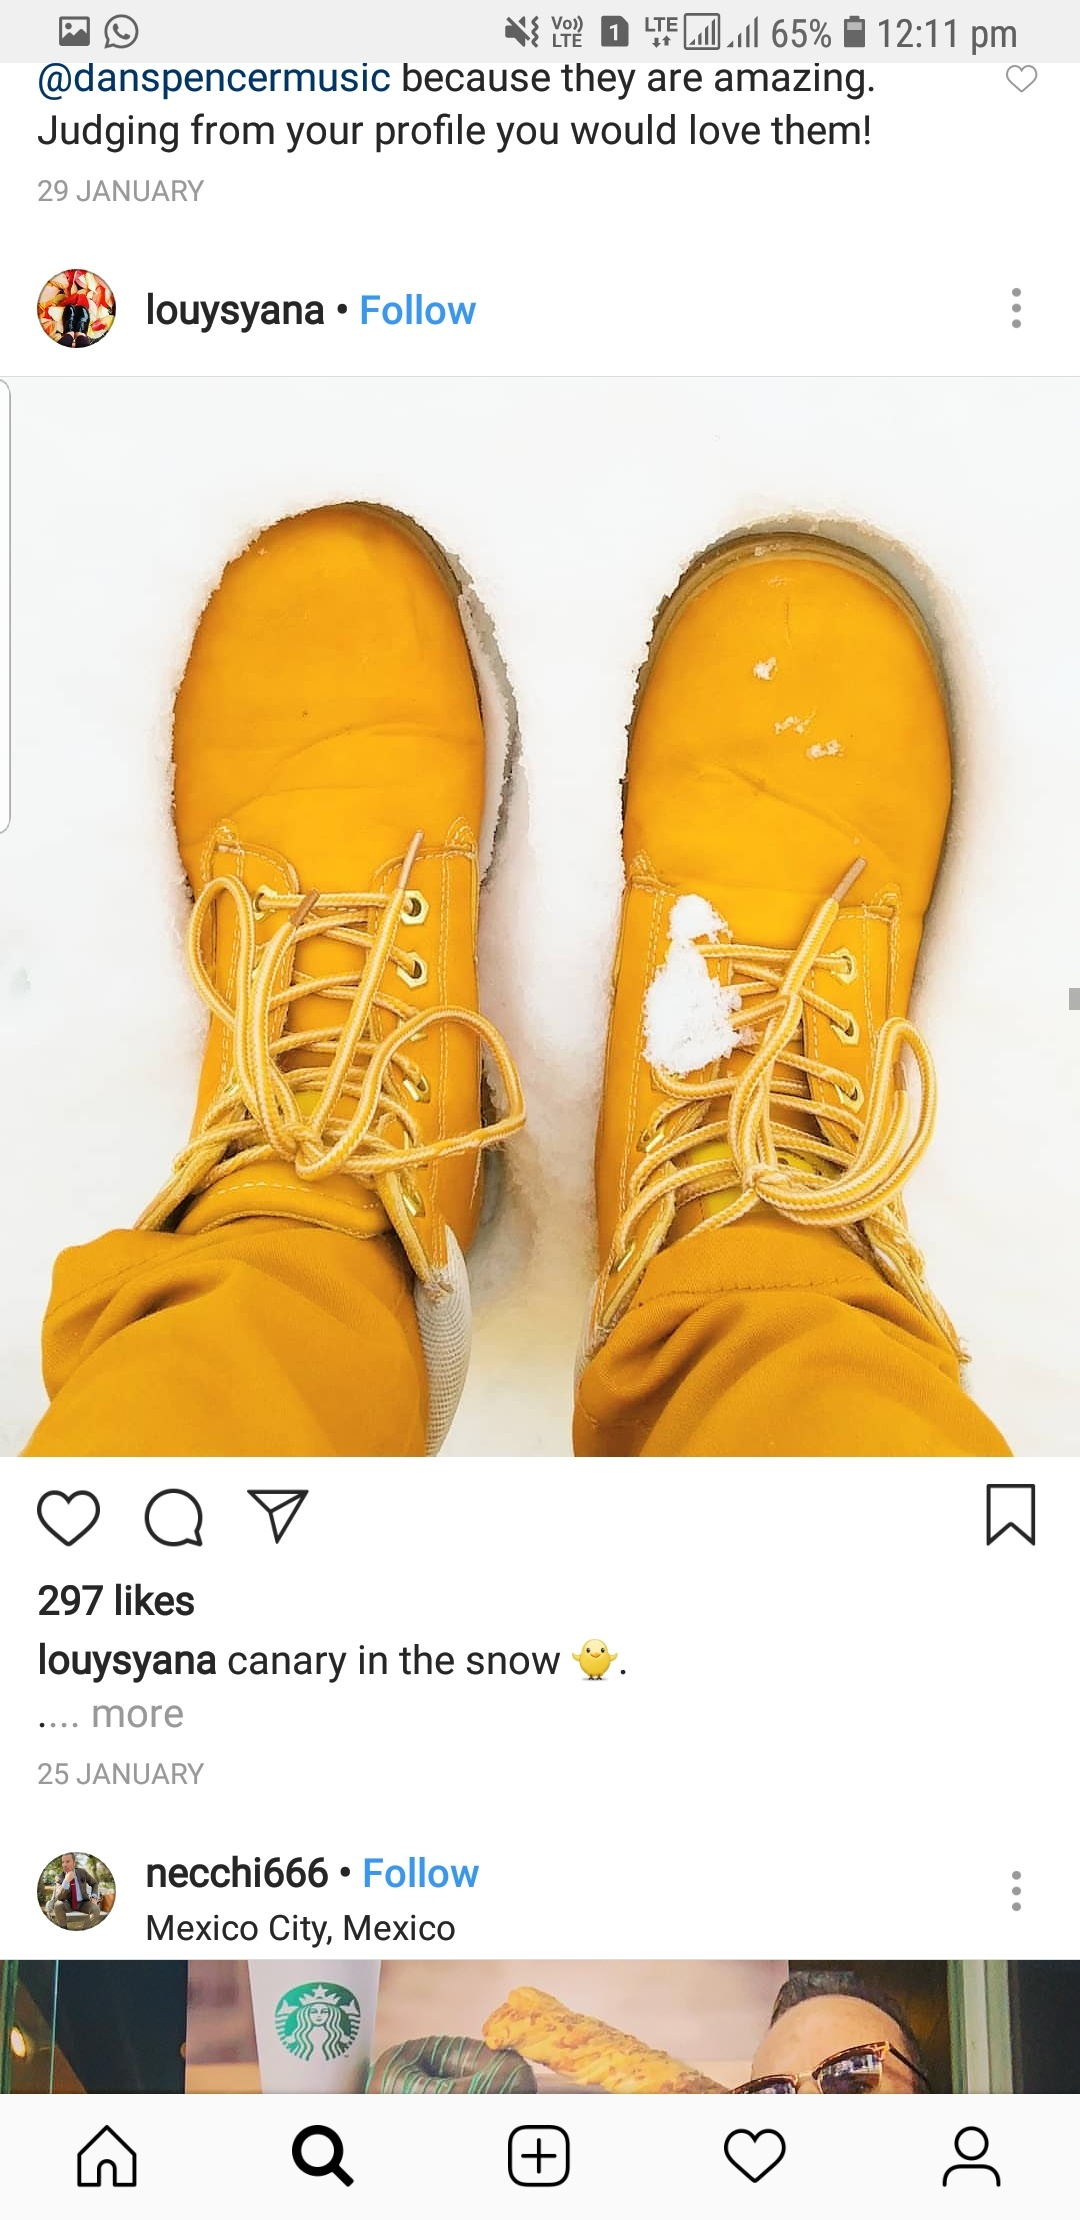feet: (95, 500, 527, 1287), (636, 481, 965, 1281)
